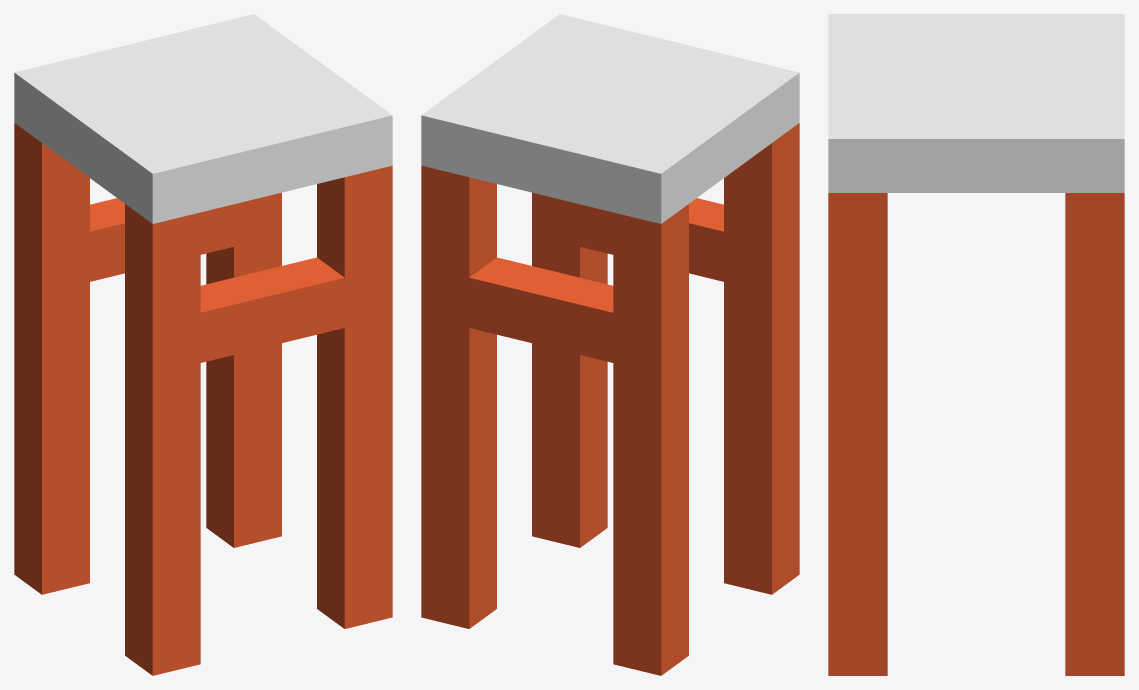
The model's file is Commisary Stools.obj.
The picture shows the model from 3 angles, left to right: view 1: azimuth 30°, elevation 25°; view 2: azimuth 150°, elevation 25°; view 3: azimuth 270°, elevation 25°; orthographic projection. The views are drawn at different scales.
Size of the model in its own units: 5 by 10 by 5.
1 material, 1 textured.
